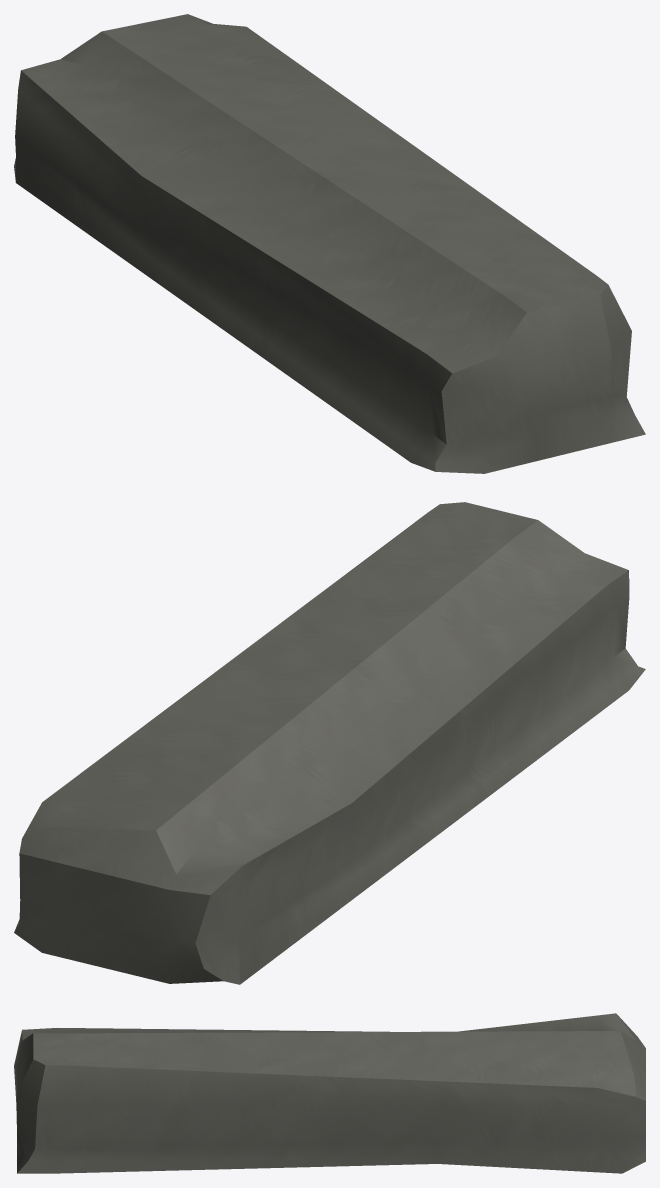
The model's file is Batu_Pijakan.fbx.
3 views of the same model, one above another, from view 1: azimuth 30°, elevation 25°; view 2: azimuth 150°, elevation 25°; view 3: azimuth 270°, elevation 25° (orthographic). The views are drawn at different scales.
Parts seen in each view (by area): view 1: Batu_Pijakan_01; view 2: Batu_Pijakan_01; view 3: Batu_Pijakan_01.
Part boxes in pixels (x1=…): Batu_Pijakan_01: x1=14, y1=14, x2=645, y2=473; Batu_Pijakan_01: x1=14, y1=502, x2=645, y2=984; Batu_Pijakan_01: x1=14, y1=1013, x2=645, y2=1173.
Bounding box in the file's own units: 112 × 69.6 × 391.
1 material, 1 textured.
